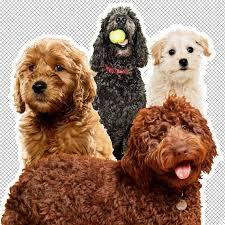Dog: (122, 99, 222, 186), (12, 37, 89, 113), (147, 25, 217, 87), (90, 4, 147, 70)
